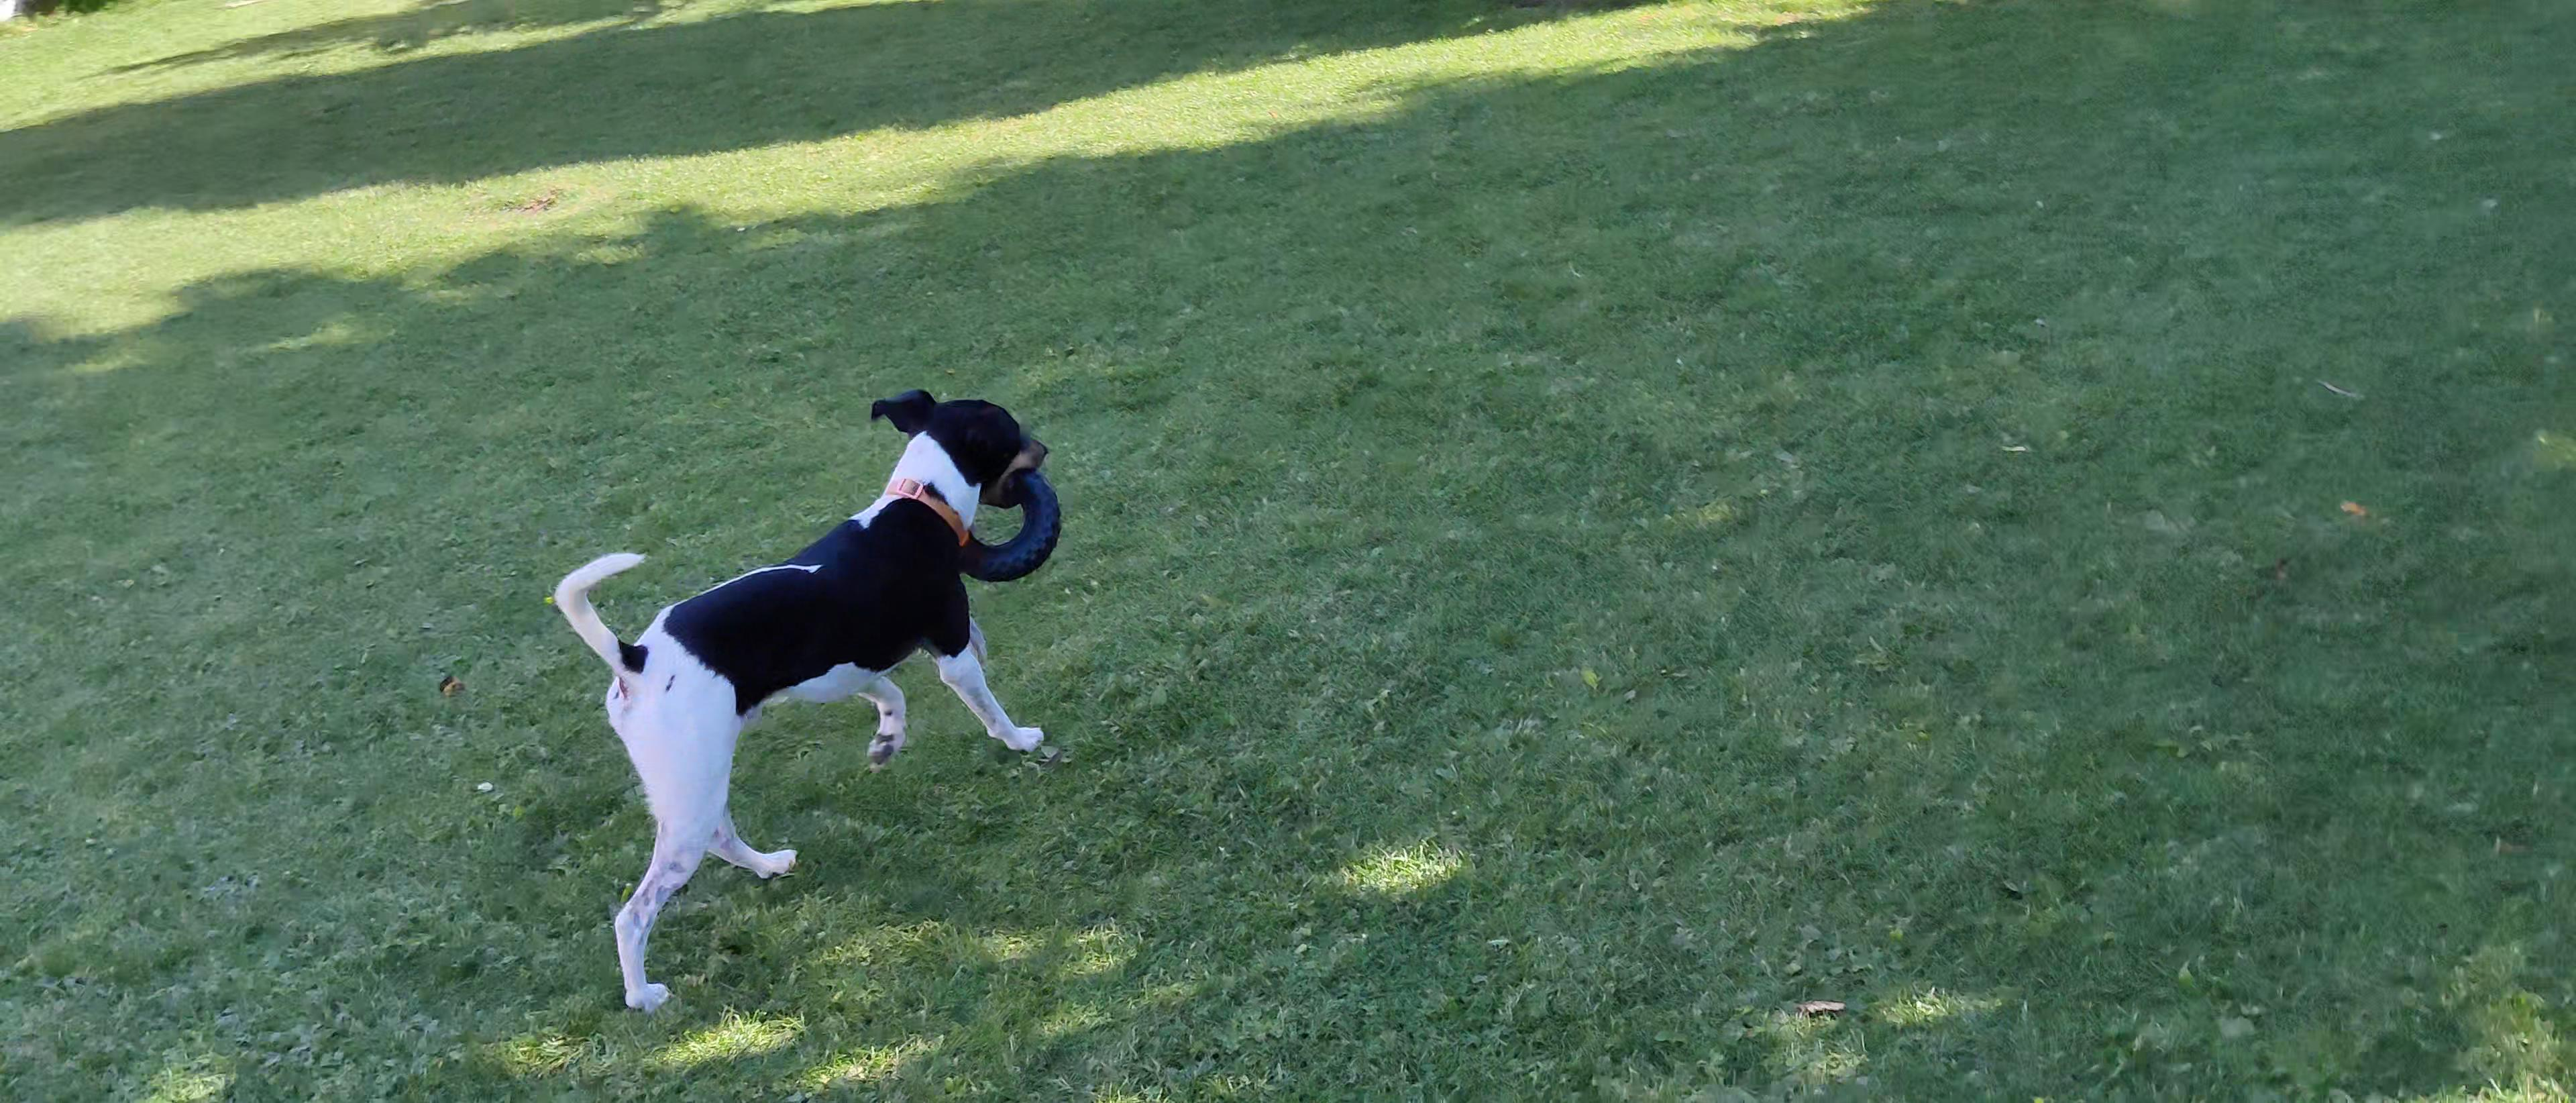Dog: (537, 383, 1063, 1011)
